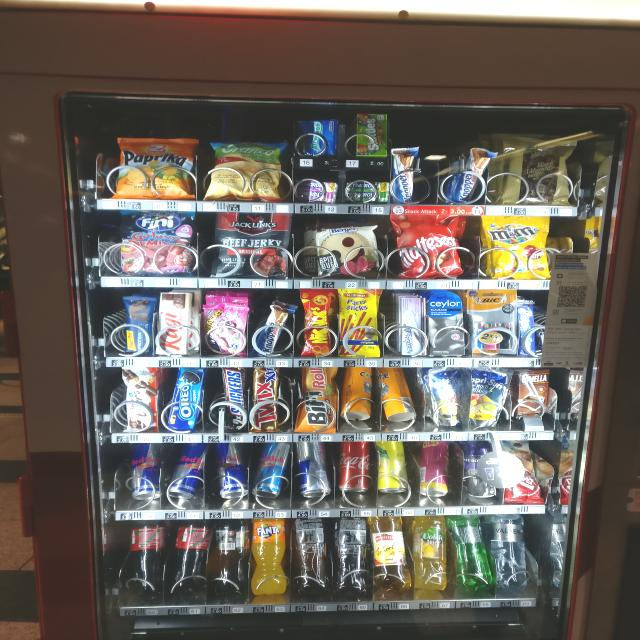7days_croissantschoko_packung_80_1_0000000000003: (500, 438, 544, 502)
airwaves_menthoneucalyptus_riegel_14_1_50173167: (308, 118, 338, 158)
berger_spitzbueb____: (314, 223, 382, 275)
bifi_roll__50__4251097402635: (294, 366, 340, 430)
bueno___43__4008400320328: (120, 366, 160, 434)
c-swiss_dosenabisicetea__33__9120025930135: (340, 366, 376, 422), (382, 368, 414, 422)
caferoyal_classicmacchiato__33__7617014164487: (462, 444, 498, 502)
caprisun_multivitamin__20__4000177605004: (467, 364, 510, 427), (429, 368, 470, 428)
coke__dose_33__54491472: (336, 438, 374, 492)
coke__flasche_50__54491472: (126, 518, 168, 592), (167, 517, 209, 590)
coke_zero_flasche_50__5449000131836: (209, 516, 251, 599)
comella_schokodrink__33__7613100037253: (512, 368, 550, 422)
fanta___50__40822938: (251, 516, 292, 594)
fini_galaxymix_packung_100_1_8410525150364: (121, 212, 194, 274)
fini_jellykisses_packung_80_1_8410525116704: (204, 299, 244, 357)
fuse_lemon_dose_33__5449000235947: (380, 439, 412, 497)
jacklinks_beefjerkyorginal__25__4047751730219: (213, 210, 290, 276)
jlbrichard_gauffrechoko__90__5410495002079: (501, 133, 574, 209)
kagi___50__7610046000259: (153, 288, 190, 356)
knoppers_riegel____4035800488808: (457, 144, 495, 205), (256, 302, 288, 352), (389, 144, 416, 202)
lorenz_nicnacs__40__4018077798818: (298, 287, 335, 359)
malburner_partysticks__40__7610200279682: (338, 287, 381, 357)
maltesers___100__5000159023061: (393, 212, 464, 278)
mnms_gelb__45__40111445: (479, 214, 554, 278)
oreo___66__84100733: (166, 364, 206, 433)
powerbar_proteinplusschoko__55__4029679520028: (122, 294, 156, 356)
ramseier_schorle__50__7610057012456: (368, 514, 415, 590)
redbull___33__90162909: (165, 442, 206, 500), (128, 438, 163, 500), (213, 441, 250, 498)
redbull_light__33__90162800: (251, 441, 293, 498), (293, 441, 333, 497)
skittles_sour_riegel_51_1_: (355, 112, 390, 158)
snickers___50__5000159461122: (218, 364, 249, 430)
stimorol_spearmint_riegel_14_1_: (343, 177, 391, 201)
stimorol_wildcherry_riegel_14_1_57060330: (299, 180, 337, 205)
tiki_himbeerbrause_dose_33_1_: (418, 440, 448, 494)
twix___50__5000159459228: (248, 366, 282, 432)
valser_classic__50__76404160: (447, 514, 494, 590)
valser_still__50__7610335002575: (486, 514, 532, 596)
volvic_pinapple__50__305764335648: (410, 515, 448, 594)
zweifel_graneochilli__100__7610095184009: (207, 136, 284, 199)
zweifel_paprika__90__7610095013002: (112, 136, 194, 196)
